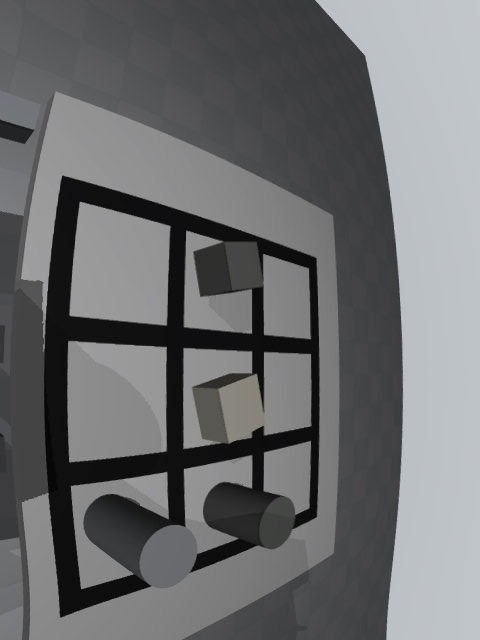can: (83, 494, 198, 589)
cube: (194, 241, 264, 297)
cylinder: (203, 482, 295, 550)
foam: (192, 373, 265, 444)
